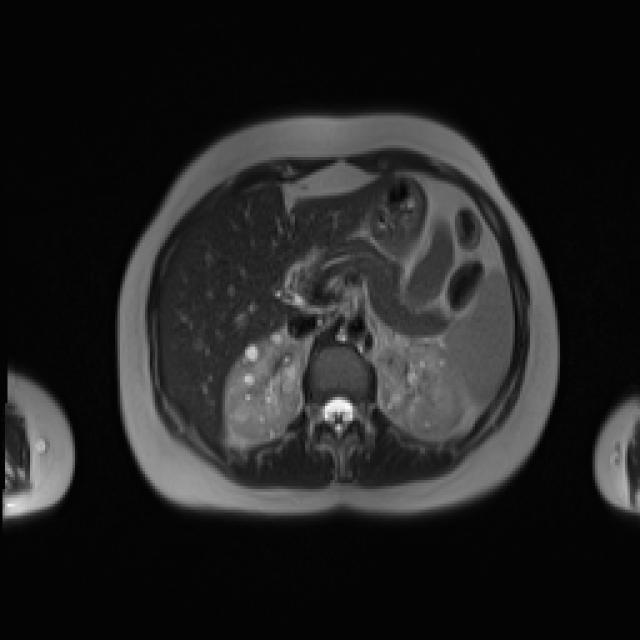sag: (225, 332, 306, 444)
sol: (375, 340, 468, 436)
